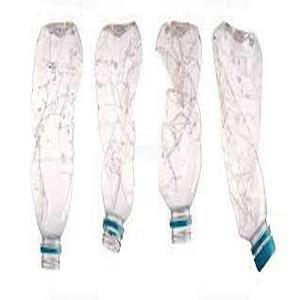Plastic: (211, 20, 279, 272), (151, 19, 209, 245), (95, 20, 148, 253), (32, 22, 81, 272)
